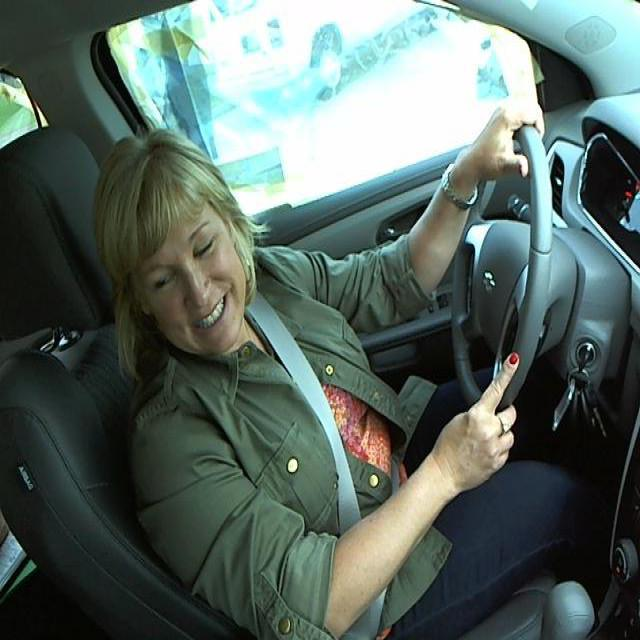seatbelt: (243, 302, 374, 518)
